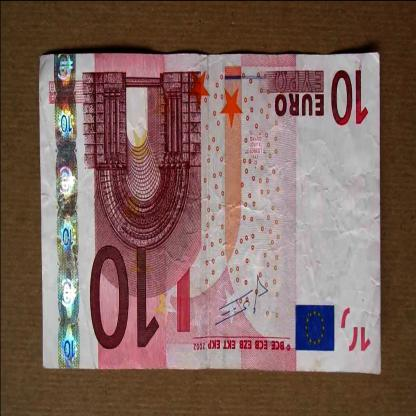euro_banknote: (41, 54, 381, 378)
